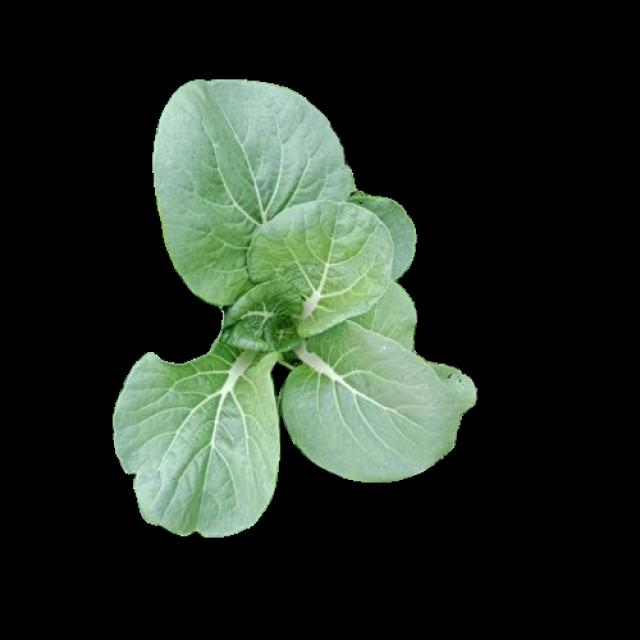mature: (112, 85, 474, 542)
unhealthy: (280, 328, 475, 481)
